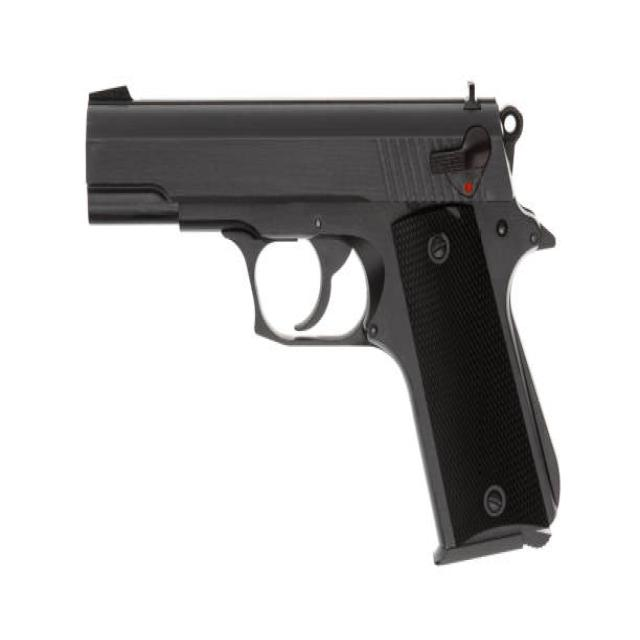pistol: (80, 74, 562, 566)
